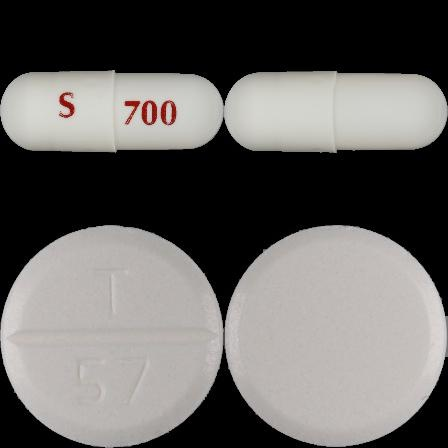60429-019: (0, 0, 224, 224)
